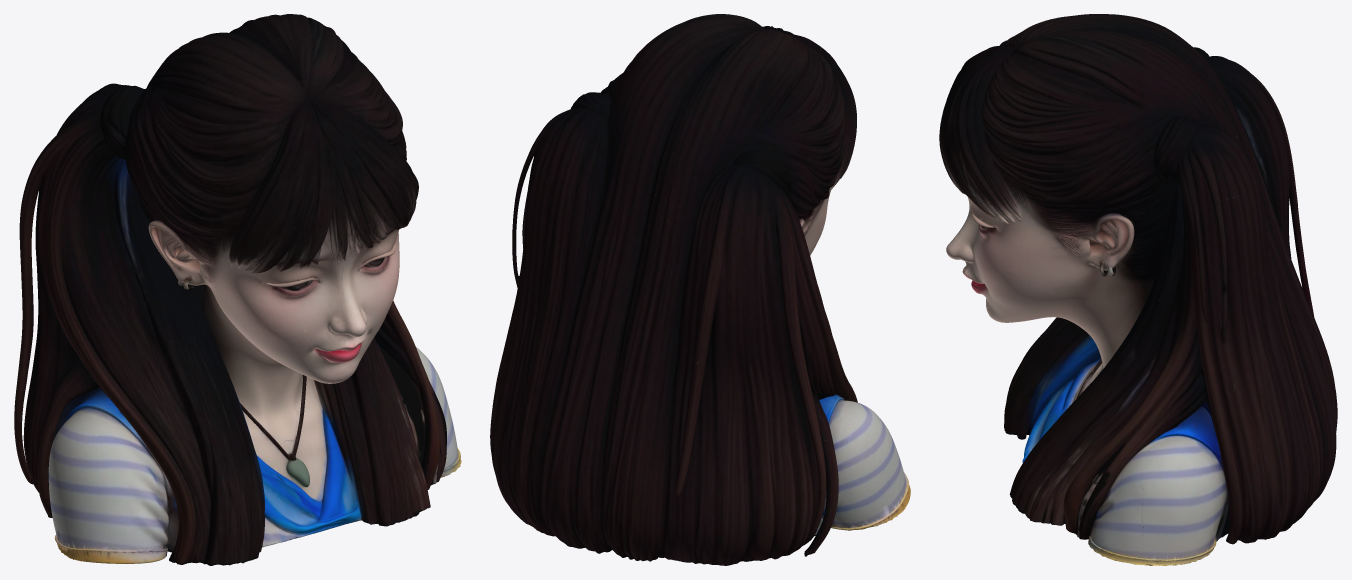
The model's file is welly-small.glb.
The picture shows the model from 3 angles, left to right: view 1: azimuth 30°, elevation 25°; view 2: azimuth 150°, elevation 25°; view 3: azimuth 270°, elevation 25°; orthographic projection. The views are drawn at different scales.
Visible parts, largest first — view 1: geometry_0; view 2: geometry_0; view 3: geometry_0.
Part boxes in pixels (box(x1,y1,x2,y2)): geometry_0: box(14, 14, 461, 565); geometry_0: box(490, 14, 910, 565); geometry_0: box(939, 14, 1337, 565).
Bounding box in the file's own units: 0.8595 × 1 × 0.7895.
1 material, 1 textured.
